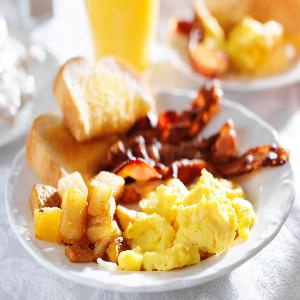fries: (29, 59, 149, 177)
